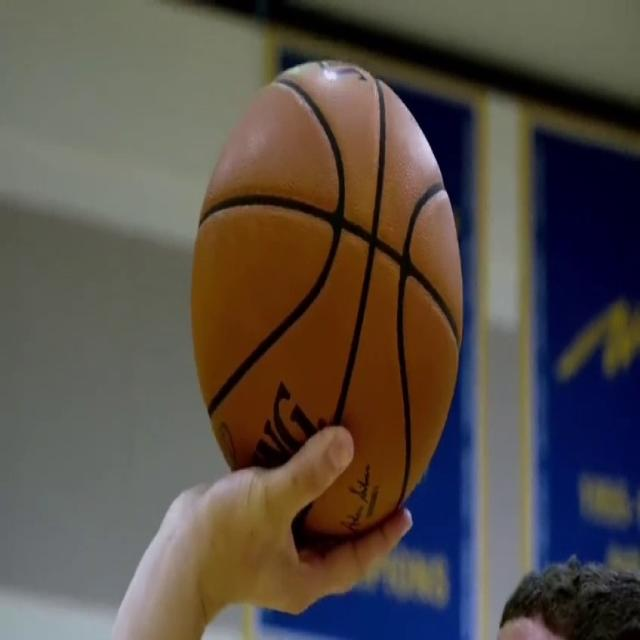ball: (191, 63, 464, 544)
